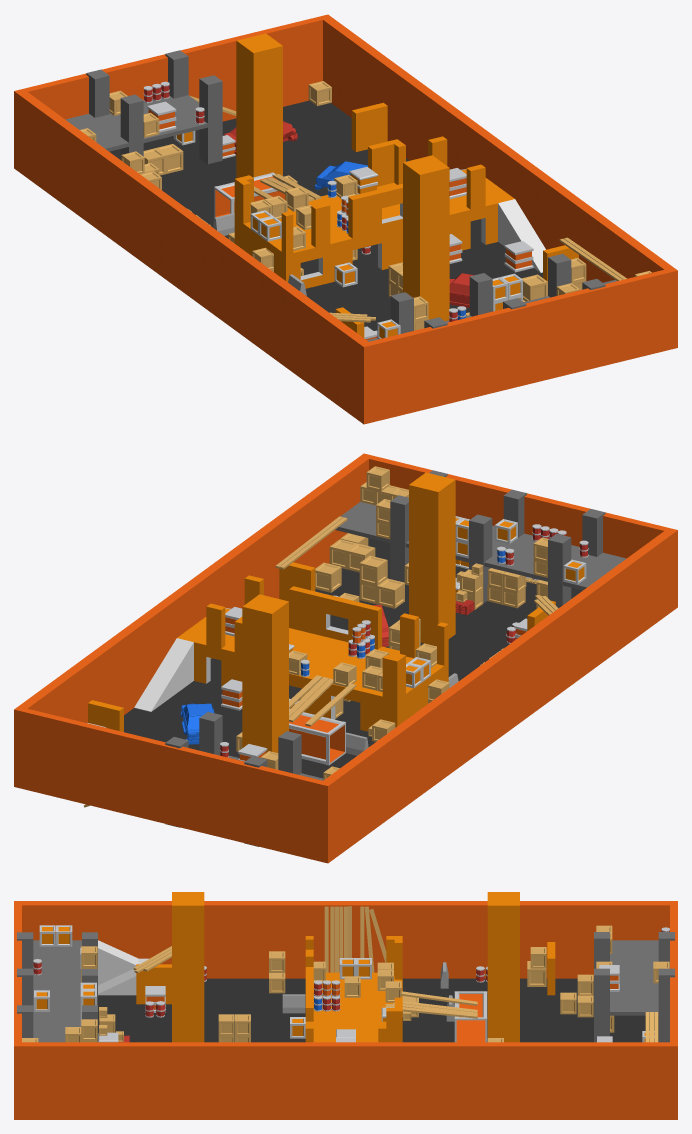
The model's file is map_visual.glb.
3 views of the same model, one above another, from view 1: azimuth 30°, elevation 25°; view 2: azimuth 150°, elevation 25°; view 3: azimuth 270°, elevation 25° (orthographic). The views are drawn at different scales.
Visible parts, largest first — view 1: floors, room, Plane, Cube.016, obj.048, obj.049, Cube.077, Cube.001, obj.004, Cube.005, BigBox.004, Cube.006 (+1 smaller); view 2: floors, room, Plane, Cube.077, obj.048, obj.049, Cube.016, Cube.002, Cube.005, obj.002, obj.004, Cube.035 (+3 smaller); view 3: floors, Plane, Cube.016, Cube.077, room, obj.048, obj.049, up2, Cube.005, Cube.030, obj.024, Cube.023 (+19 smaller).
Part boxes in pixels (left/top/right/bottom): floors: left=14, top=14, right=677, bottom=424; room: left=234, top=136, right=514, bottom=288; Plane: left=110, top=100, right=542, bottom=330; Cube.016: left=65, top=50, right=222, bottom=164; obj.048: left=403, top=155, right=449, bottom=321; obj.049: left=236, top=33, right=282, bottom=178; Cube.077: left=367, top=253, right=616, bottom=341; Cube.001: left=498, top=199, right=545, bottom=272; obj.004: left=351, top=102, right=387, bottom=151; Cube.005: left=214, top=172, right=286, bottom=217; BigBox.004: left=504, top=241, right=533, bottom=272; Cube.006: left=449, top=273, right=473, bottom=307; floors: left=14, top=453, right=677, bottom=863; room: left=177, top=575, right=448, bottom=731; Plane: left=124, top=538, right=582, bottom=778; Cube.077: left=335, top=470, right=626, bottom=608; obj.048: left=409, top=472, right=455, bottom=646; obj.049: left=242, top=594, right=288, bottom=752; Cube.016: left=165, top=712, right=323, bottom=846; Cube.002: left=134, top=638, right=193, bottom=711; Cube.005: left=289, top=709, right=345, bottom=765; obj.002: left=279, top=562, right=315, bottom=601; obj.004: left=88, top=700, right=123, bottom=731; Cube.035: left=180, top=703, right=214, bottom=744; floors: left=14, top=901, right=677, bottom=1119; Plane: left=98, top=978, right=658, bottom=1042; Cube.016: left=594, top=932, right=674, bottom=1042; Cube.077: left=17, top=932, right=97, bottom=1042; room: left=305, top=936, right=402, bottom=1042; obj.048: left=172, top=892, right=204, bottom=1042; obj.049: left=487, top=892, right=519, bottom=1042; up2: left=98, top=940, right=148, bottom=995; Cube.005: left=454, top=991, right=487, bottom=1042; Cube.030: left=330, top=906, right=347, bottom=972; obj.024: left=136, top=964, right=171, bottom=1004; Cube.023: left=360, top=906, right=374, bottom=972.
Bounding box in the file's own units: 8.5 × 4.35 × 16.4.
